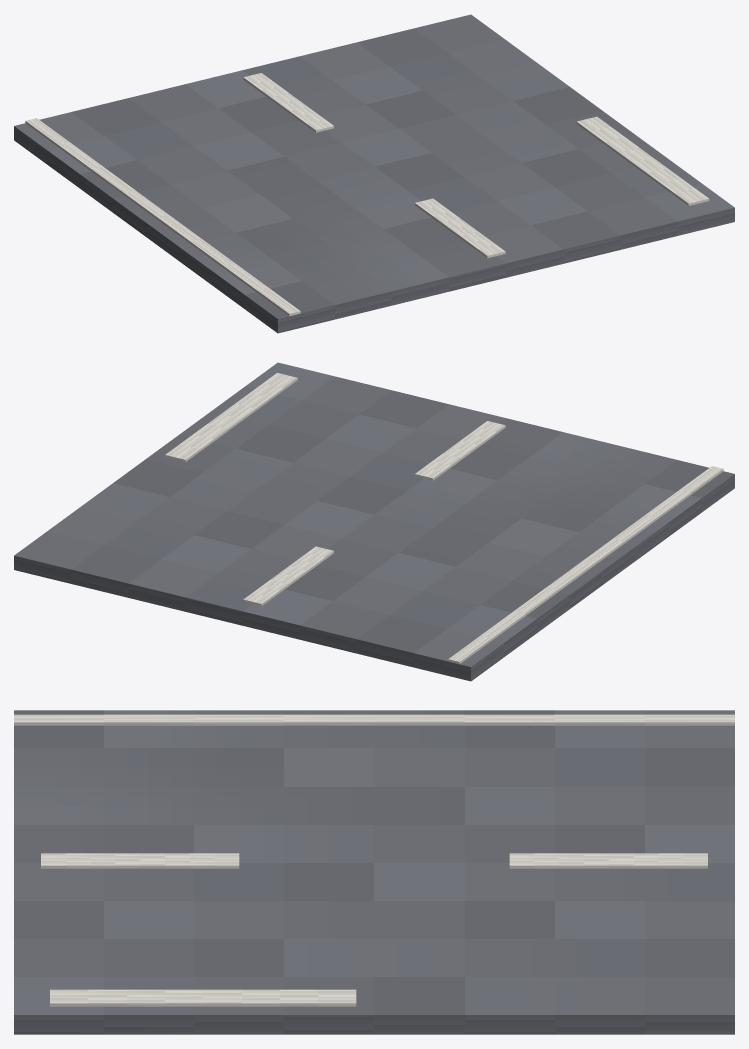
Rendered from pixel-modern-city-street-road-t-junction-b6f89ca8__28987.glb.
The picture shows the model from 3 angles, top to bottom: view 1: azimuth 30°, elevation 25°; view 2: azimuth 150°, elevation 25°; view 3: azimuth 270°, elevation 25°; orthographic projection. The views are drawn at different scales.
Visible parts, largest first — view 1: road-t-junction; view 2: road-t-junction; view 3: road-t-junction.
Boxes of the visible parts, bbox=[...] form: road-t-junction: bbox=[14, 14, 734, 333]; road-t-junction: bbox=[14, 362, 734, 681]; road-t-junction: bbox=[14, 710, 734, 1034].
Bounding box in the file's own units: 4 × 0.1401 × 4.
2 materials, 2 textured.
